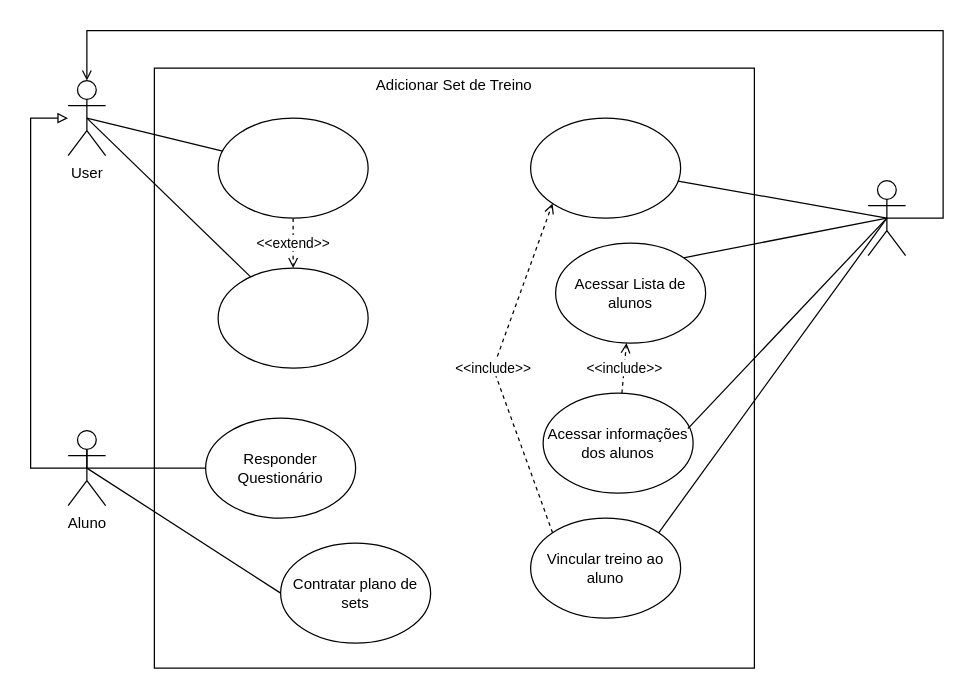
Image size: 975x690. Some labels were removed from this diagram. Here are the shapes that lost their labels. From the top down, the centre of each, then its label:
At [292,167]: "Registrar".
At [605,167]: "Acessar lista de treinos".
At [886,217]: "Professor".
At [292,317]: "Login".
